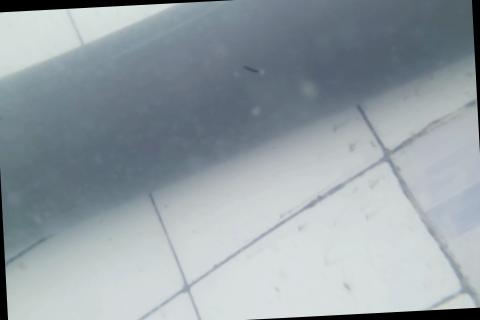keretakan: (239, 61, 265, 79), (0, 111, 4, 139)
